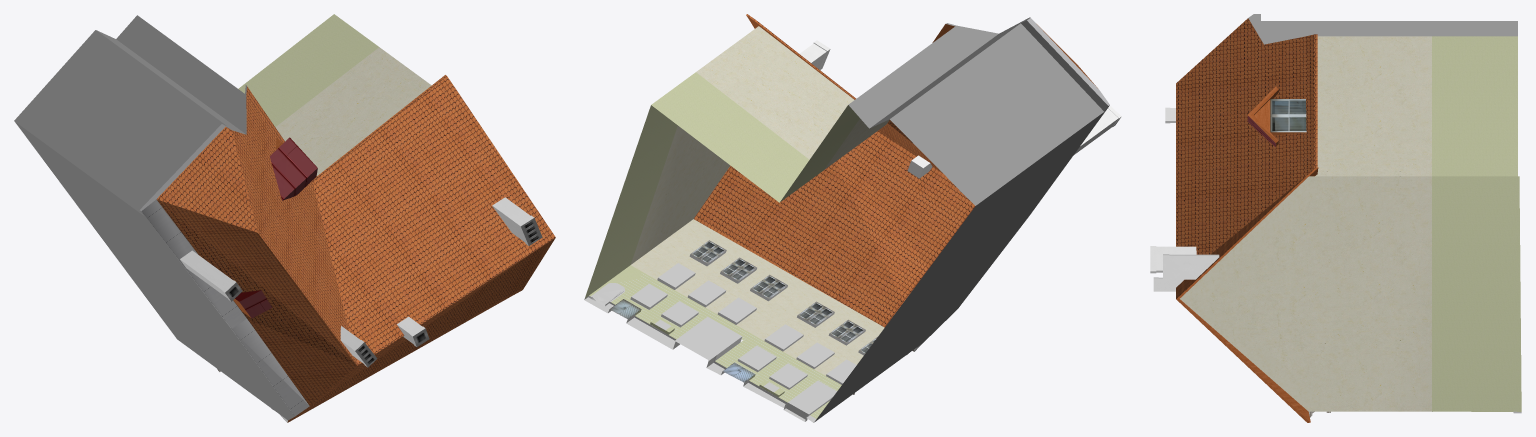
The model's file is Pyhavaimu_11.obj.
The picture shows the model from 3 angles, left to right: view 1: azimuth 30°, elevation 25°; view 2: azimuth 150°, elevation 25°; view 3: azimuth 270°, elevation 25°; orthographic projection. The views are drawn at different scales.
Parts seen in each view (by area): view 1: Pyhavaimu_11; view 2: Pyhavaimu_11; view 3: Pyhavaimu_11.
Part boxes in pixels (x1,y1,x2,y2): Pyhavaimu_11: [14, 14, 555, 422]; Pyhavaimu_11: [584, 14, 1121, 422]; Pyhavaimu_11: [1150, 14, 1521, 422].
Bounding box in the file's own units: 25.16 × 20.28 × 20.48.
